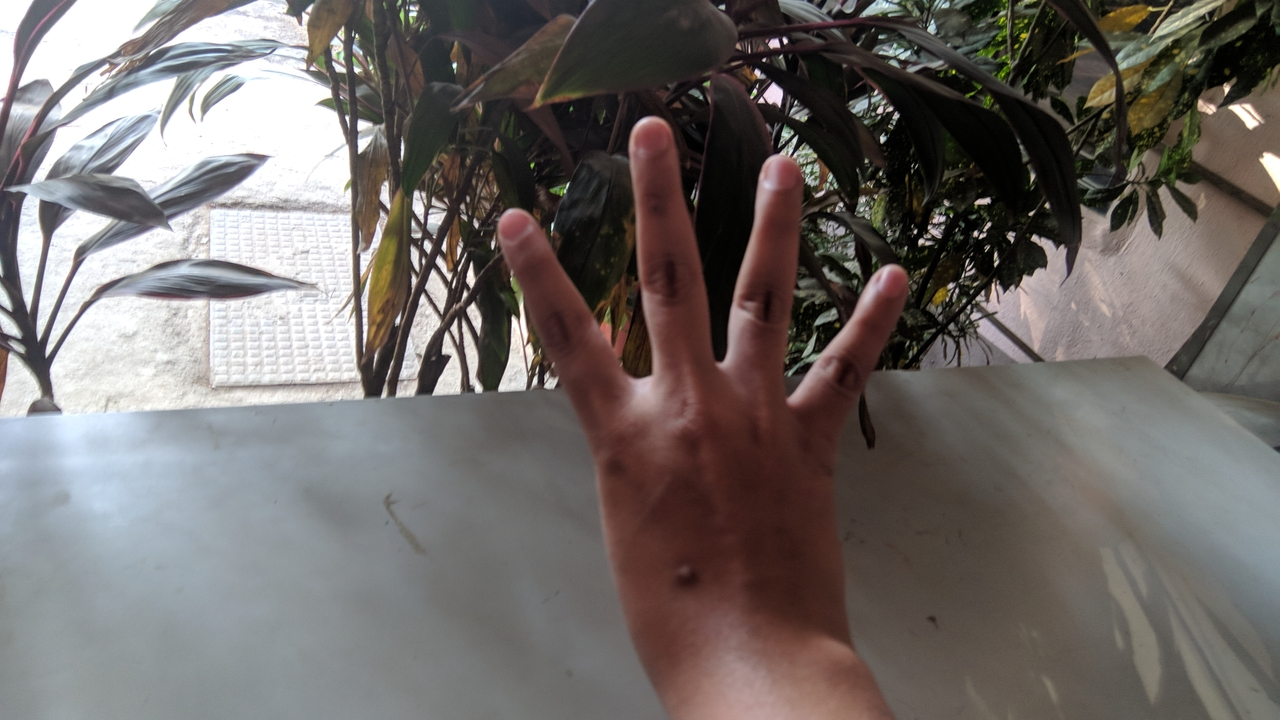fingertip: (624, 108, 682, 172), (748, 146, 804, 208), (486, 198, 542, 254), (860, 260, 916, 310)
